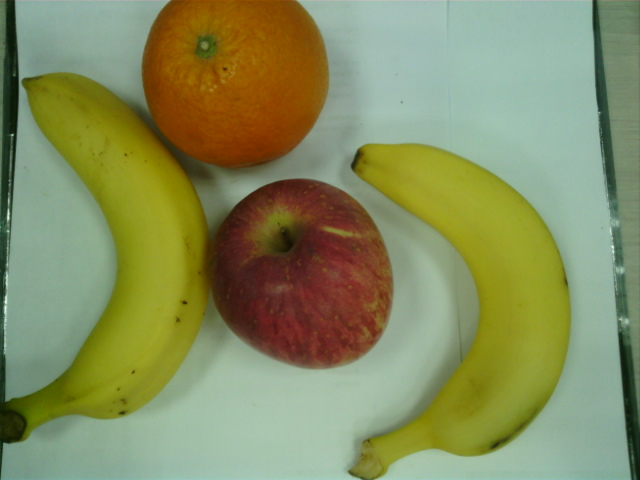normal_apple: (208, 178, 395, 370)
normal_banana: (353, 143, 572, 474), (23, 72, 203, 418)
normal_orange: (143, 2, 327, 172)
